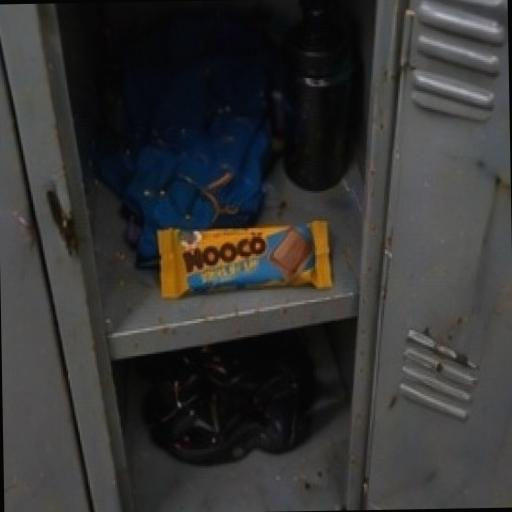nooco: (127, 166, 350, 324)
